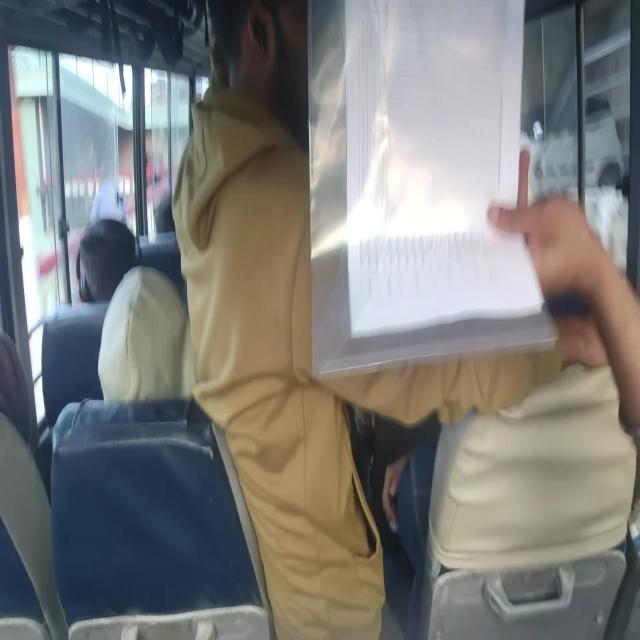person: (174, 84, 290, 254), (40, 304, 112, 434), (0, 327, 33, 452), (82, 222, 135, 292), (136, 234, 186, 305)
